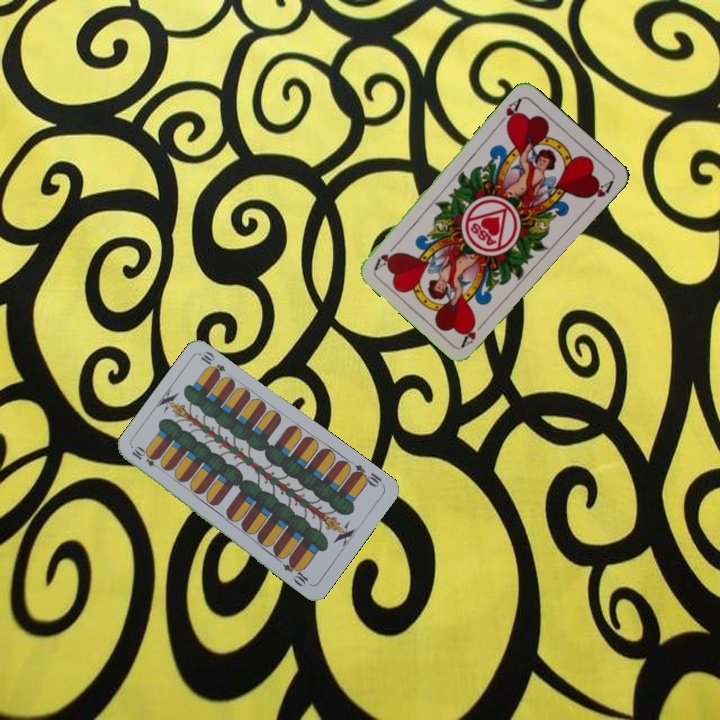E10: (348, 460, 386, 490), (128, 443, 165, 473)
HA: (494, 94, 525, 129), (458, 316, 489, 349)
